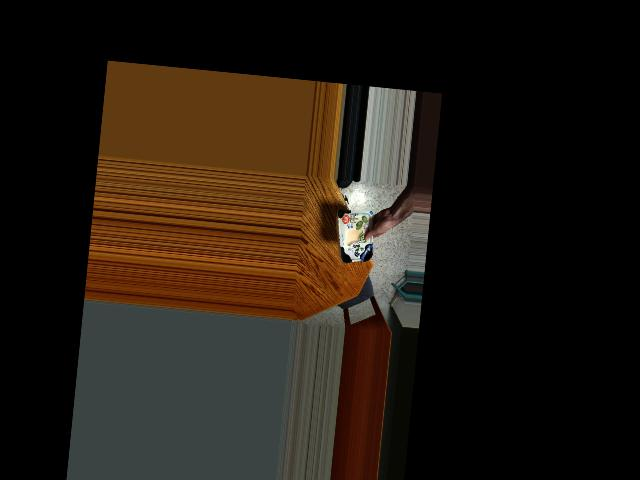cheese: (339, 212, 374, 264)
